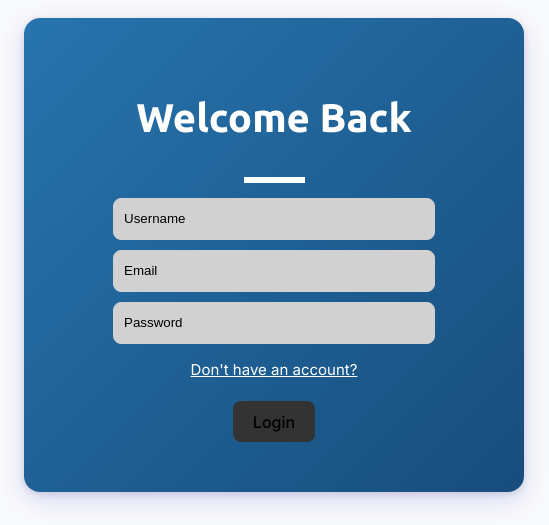
Test: LoginSignup Component › Login Functionality › should set loading state during login
The image size is (549, 525).
Click the button "Login".
click(274, 422)  # box [233, 401, 315, 442]
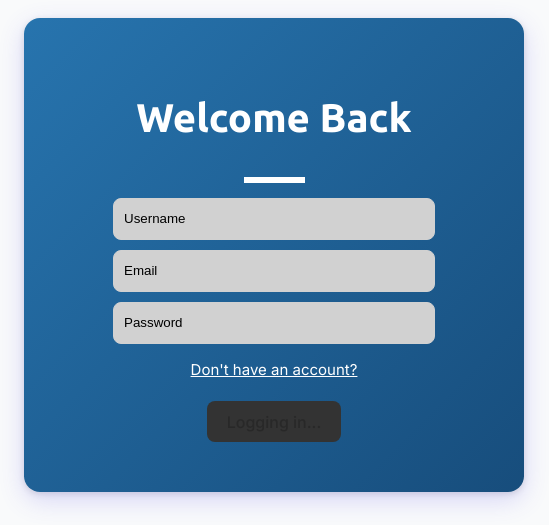
Check: the button "Logging in..." is disabled, box [206, 401, 342, 442]
